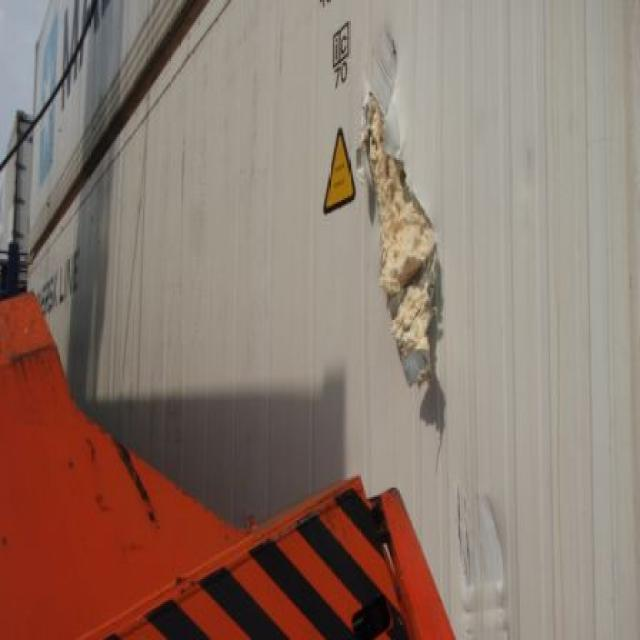dent: (459, 483, 514, 640), (363, 22, 412, 170)
